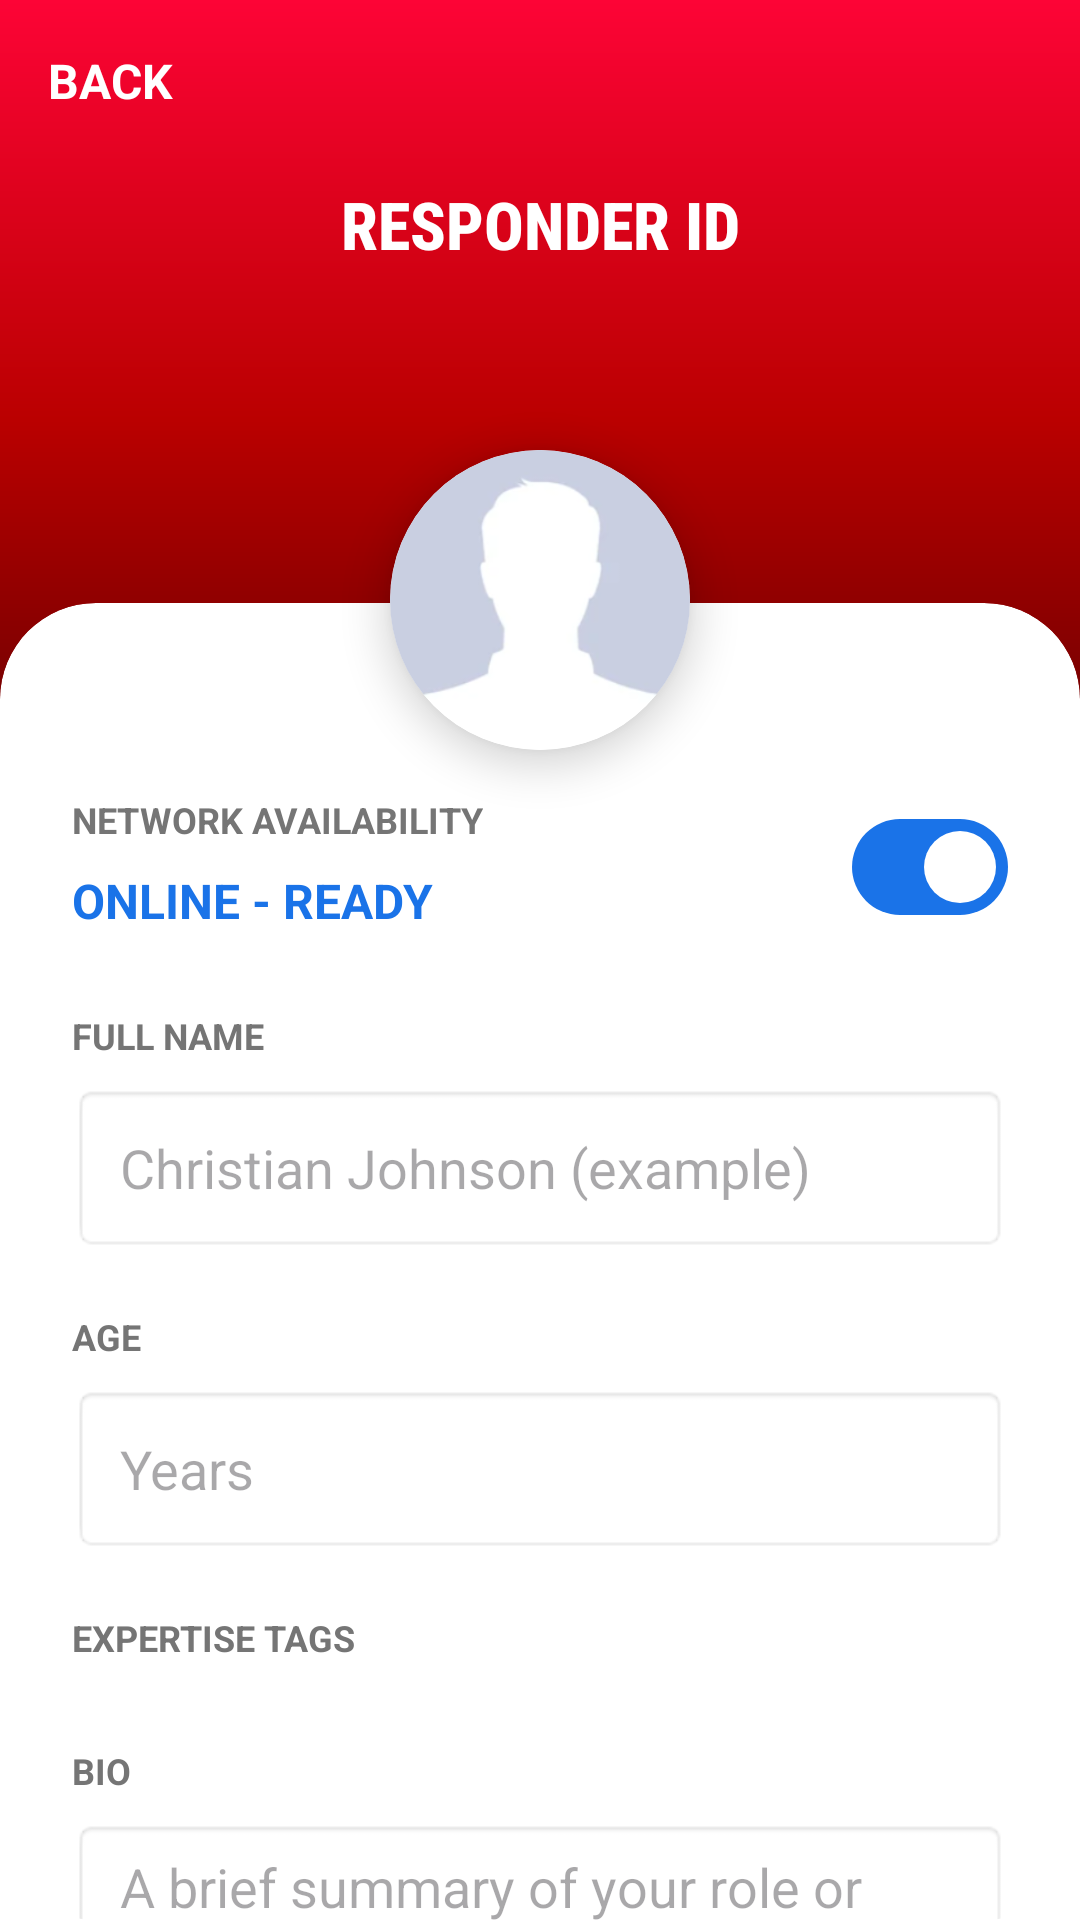

Named icons in this screenshot (1080px x 1920px) and their centers, (x=x, y=y):
avatarr: (x=540, y=600)
